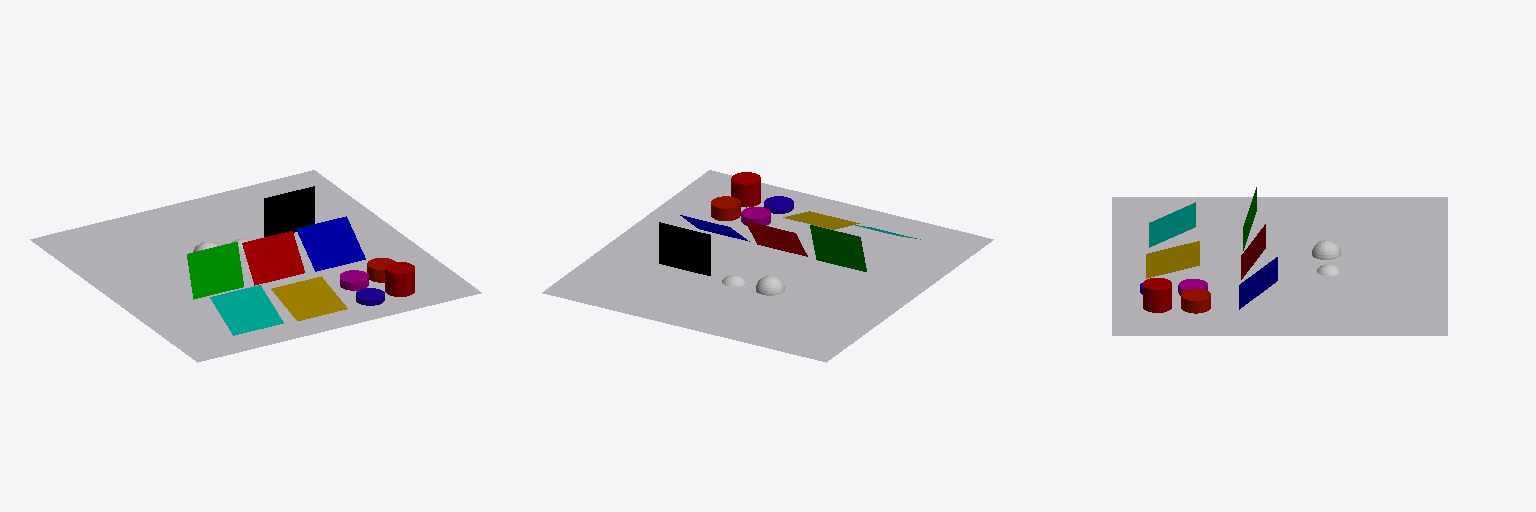
File: test_ramp.obj
The picture shows the model from 3 angles: view 1: azimuth 30°, elevation 25°; view 2: azimuth 150°, elevation 25°; view 3: azimuth 270°, elevation 25°; orthographic projection.
Visible parts, largest first — view 1: Plane, Plane.003, Plane.005, Plane.004, Plane.002, Plane.001, Plane.006, Cylinder, Cylinder.003; view 2: Plane, Plane.006, Plane.005, Plane.004, Cylinder, Cylinder.002, Plane.001; view 3: Plane, Plane.001, Plane.002, Plane.003, Cylinder, Cylinder.002, Plane.004.
Part boxes in pixels (bbox=[...]): Plane: bbox=[30, 170, 481, 362]; Plane.003: bbox=[296, 216, 365, 271]; Plane.005: bbox=[187, 242, 243, 299]; Plane.004: bbox=[242, 231, 304, 285]; Plane.002: bbox=[210, 285, 283, 335]; Plane.001: bbox=[271, 276, 347, 320]; Plane.006: bbox=[264, 186, 314, 236]; Cylinder: bbox=[385, 262, 414, 296]; Cylinder.003: bbox=[340, 270, 368, 290]; Plane: bbox=[542, 170, 993, 362]; Plane.006: bbox=[659, 222, 710, 275]; Plane.005: bbox=[810, 225, 866, 271]; Plane.004: bbox=[745, 221, 807, 256]; Cylinder: bbox=[731, 172, 760, 207]; Cylinder.002: bbox=[711, 196, 740, 220]; Plane.001: bbox=[783, 211, 859, 229]; Plane: bbox=[1112, 197, 1447, 335]; Plane.001: bbox=[1146, 241, 1199, 278]; Plane.002: bbox=[1149, 202, 1195, 247]; Plane.003: bbox=[1239, 257, 1277, 309]; Cylinder: bbox=[1143, 278, 1171, 312]; Cylinder.002: bbox=[1181, 289, 1210, 313]; Plane.004: bbox=[1241, 224, 1265, 279].
Size of the model in its own units: 22.13 by 4.67 by 22.6.